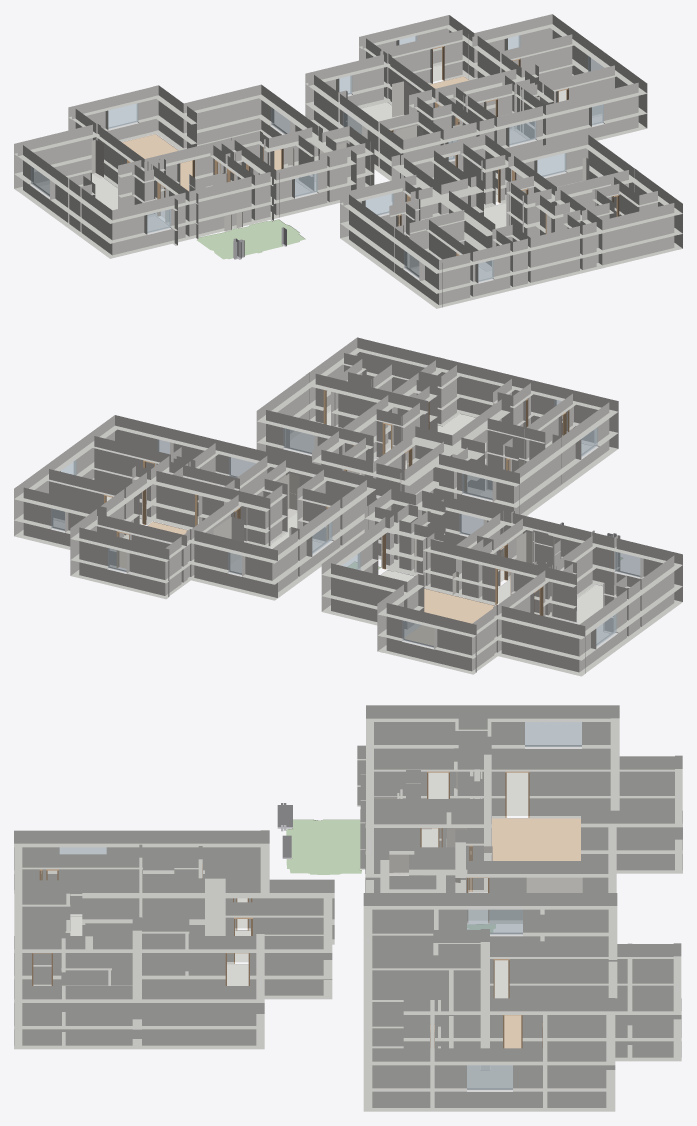
The picture shows the model from 3 angles, top to bottom: view 1: azimuth 30°, elevation 25°; view 2: azimuth 150°, elevation 25°; view 3: azimuth 270°, elevation 25°; orthographic projection. The views are drawn at different scales.
Visible parts, largest first — view 1: walls, floor_33_Outdoor, floor_0_Living_Room, floor_4_Undefined, furniture_1_closet, window_33, floor_20_Undefined, floor_5_Undefined, window_12, window_28, furniture_0_closet, window_9; view 2: walls, floor_0_Living_Room, floor_4_Undefined, window_33, furniture_1_closet, window_12, window_23, furniture_10_closet, furniture_11_closet, window_9; view 3: walls, floor_0_Living_Room, floor_33_Outdoor, floor_4_Undefined, window_3, window_5, window_2, floor_7_Undefined, window_0, floor_20_Undefined, railings, floor_3_Living_Room.
Boxes of the visible parts, x1,y1,x2,y2 form: walls: (14, 14, 682, 308); floor_33_Outdoor: (197, 219, 305, 259); floor_0_Living_Room: (122, 134, 280, 191); floor_4_Undefined: (39, 174, 168, 231); furniture_1_closet: (392, 81, 418, 117); window_33: (108, 103, 138, 128); floor_20_Undefined: (478, 203, 506, 280); floor_5_Undefined: (348, 102, 452, 158); window_12: (537, 153, 566, 176); window_28: (509, 121, 536, 145); furniture_0_closet: (91, 139, 103, 178); window_9: (147, 209, 170, 232); walls: (14, 337, 682, 676); floor_0_Living_Room: (404, 588, 494, 645); floor_4_Undefined: (575, 584, 609, 643); window_33: (402, 620, 433, 647); furniture_1_closet: (213, 517, 243, 563); window_12: (283, 428, 314, 454); window_23: (462, 474, 492, 500); furniture_10_closet: (278, 473, 299, 519); furniture_11_closet: (516, 531, 555, 563); window_9: (615, 551, 640, 577); walls: (14, 705, 682, 1111); floor_0_Living_Room: (492, 818, 582, 892); floor_33_Outdoor: (286, 819, 361, 874); floor_4_Undefined: (428, 772, 528, 815); window_3: (525, 722, 581, 746); window_5: (467, 909, 522, 934); window_2: (467, 1065, 512, 1089); floor_7_Undefined: (467, 1065, 512, 1087); window_0: (526, 877, 582, 892); floor_20_Undefined: (70, 916, 248, 985); railings: (277, 803, 431, 858); floor_3_Living_Room: (504, 1015, 521, 1048).
Bounding box in the file's own units: 33.72 × 2.72 × 27.48.
